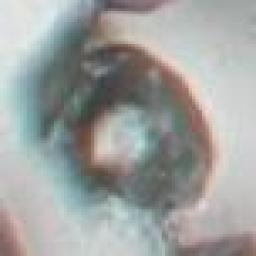crystals: (37, 38, 213, 217)
